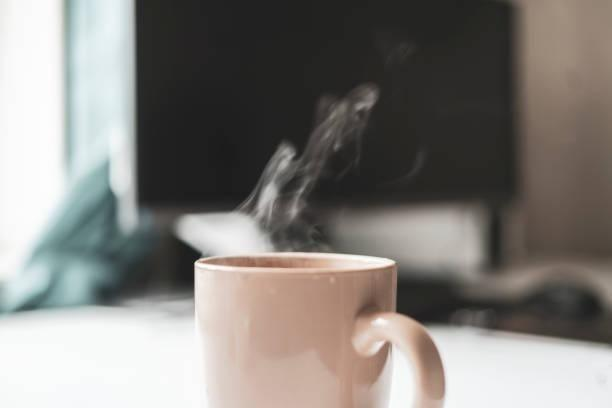cup-handle: (193, 250, 448, 407)
